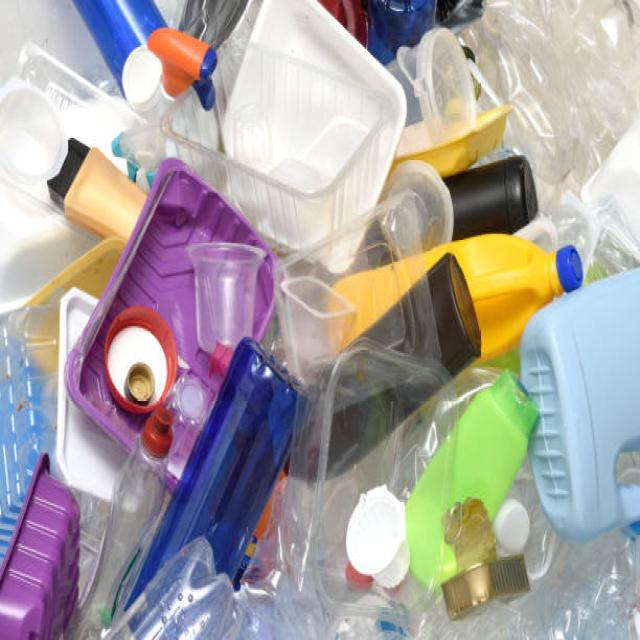plastic: (8, 19, 619, 634)
